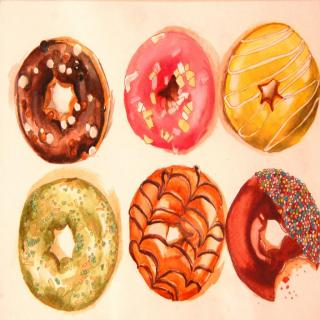Doughnut: (127, 164, 227, 304), (18, 177, 118, 311), (220, 23, 320, 154), (224, 166, 320, 301), (15, 38, 110, 168), (126, 30, 215, 152)
